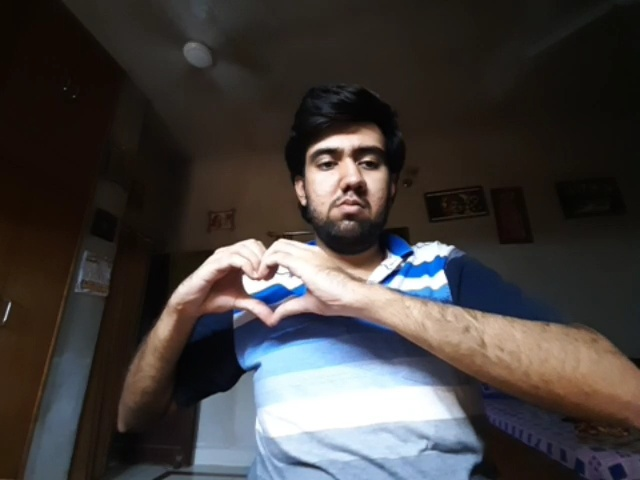Love: (178, 237, 343, 328)
